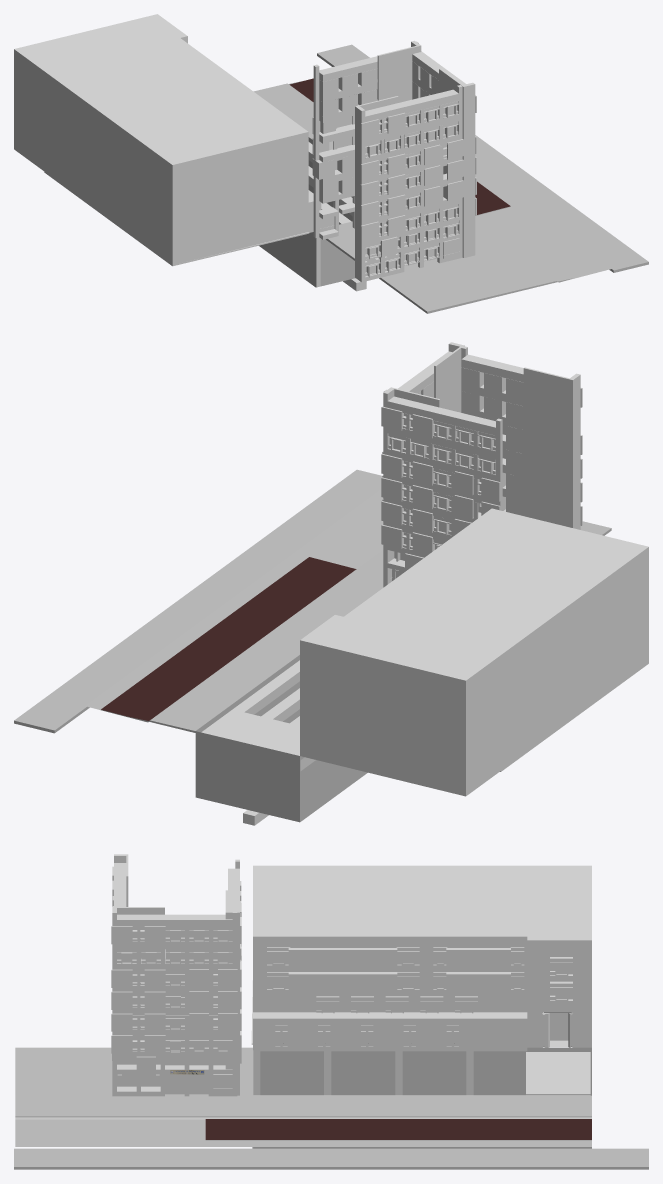
File: FACULTATE3.fbx
3 renders of one model, top to bottom at view 1: azimuth 30°, elevation 25°; view 2: azimuth 150°, elevation 25°; view 3: azimuth 270°, elevation 25°, orthographic. The views are drawn at different scales.
Visible parts, largest first — view 1: Cube.092, Cube.004, Plane, Cube.108, Cube.105, rua, Cube.005, Cube.007, rua.001, Plane.001, Cube.026, Cube.097; view 2: Cube.092, Cube.105, Plane, Cube.108, Cube.004, Plane.001, rua.001, rua, Cube.097, Cube.104, Cube.007; view 3: Plane, Cube.092, Cube.105, Cube.093, Plane.001, rua.001, rua, Cube.026, Cube.104, Cube.100, Cube.099, Cube.025 (+17 smaller).
Part boxes in pixels (x1,y1,x2,y2): Cube.092: (44,38,309,266); Cube.004: (355,85,463,282); Plane: (253,81,612,313); Cube.108: (312,40,421,239); Cube.105: (14,14,187,170); rua: (477,153,648,272); Cube.005: (463,82,475,257); Cube.007: (439,68,465,257); rua.001: (317,44,499,158); Plane.001: (290,78,510,214); Cube.026: (412,51,466,99); Cube.097: (308,142,366,291); Cube.092: (344,508,648,771); Cube.105: (300,615,500,796); Plane: (86,490,611,822); Cube.108: (381,387,502,587); Cube.004: (461,346,582,529); Plane.001: (101,557,356,720); rua.001: (14,595,223,733); rua: (186,469,382,604); Cube.097: (201,660,299,825); Cube.104: (212,712,315,770); Cube.007: (434,345,464,412); Plane: (15,1047,591,1148); Cube.092: (251,865,527,1044); Cube.105: (527,865,591,1047); Cube.093: (253,1012,527,1051); Plane.001: (205,1119,591,1139); rua.001: (331,1148,648,1169); rua: (14,1148,331,1169); Cube.026: (117,914,232,1037); Cube.104: (526,1052,590,1095); Cube.100: (288,948,397,969); Cube.099: (288,972,397,993); Cube.025: (189,969,237,1031).
Bounding box in the file's own units: 64296 × 40780 × 90668.
